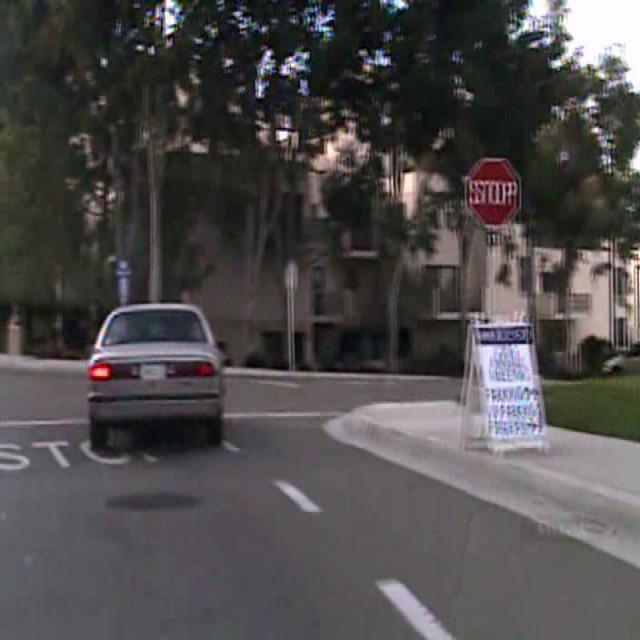stop_sign: (464, 156, 521, 228)
